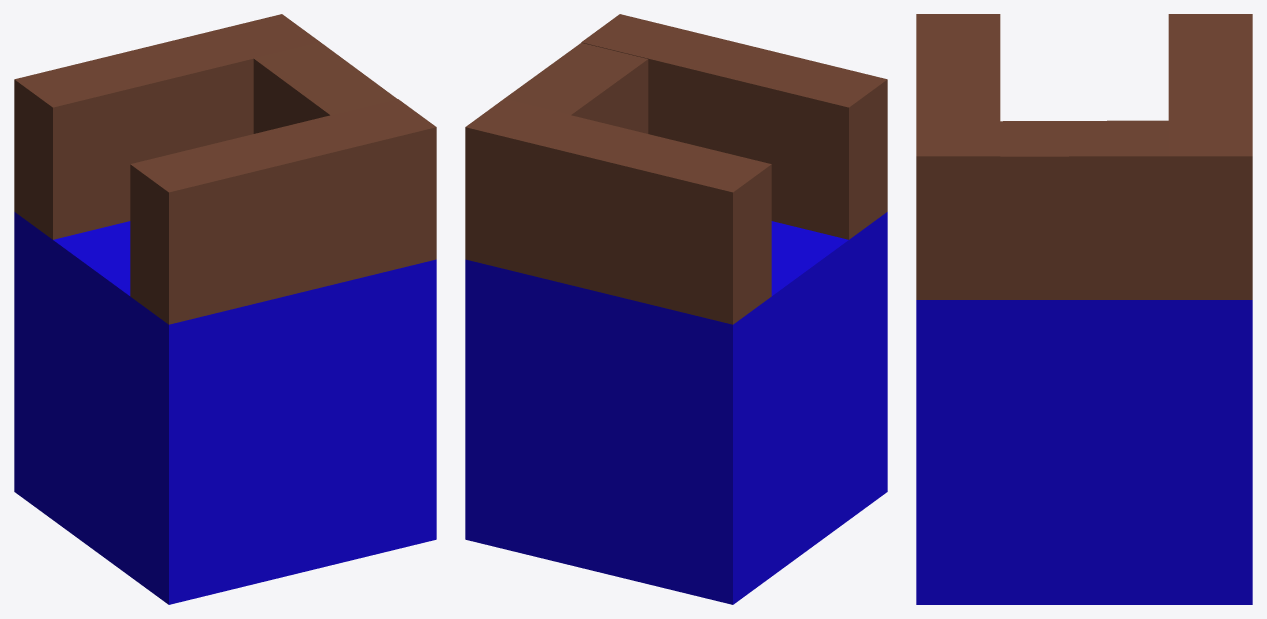
The model's file is TripleEdge.fbx.
3 views of the same model, side by side, from view 1: azimuth 30°, elevation 25°; view 2: azimuth 150°, elevation 25°; view 3: azimuth 270°, elevation 25° (orthographic). The views are drawn at different scales.
Parts seen in each view (by area): view 1: Cube.010; view 2: Cube.010; view 3: Cube.010.
Part boxes in pixels (box(x1,y1,x2,y2)): Cube.010: box(14, 14, 436, 604); Cube.010: box(465, 14, 887, 604); Cube.010: box(916, 14, 1252, 604).
Size of the model in its own units: 200 by 294 by 200.
